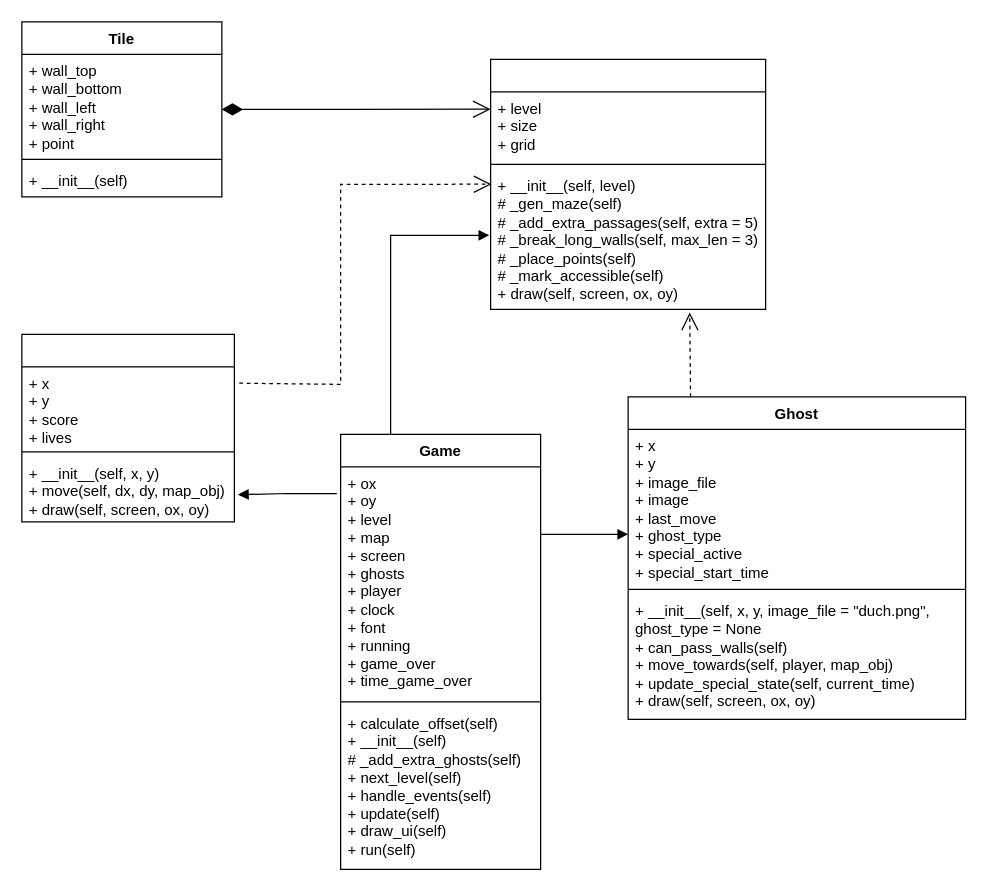
The diagram is 988 pixels wide and 895 high, and some of its shapes have lost their labels. Here are the shapes that lost their labels. From the top down, the box of each, then its label:
(489, 58, 766, 309): Map
(21, 333, 234, 522): Player
